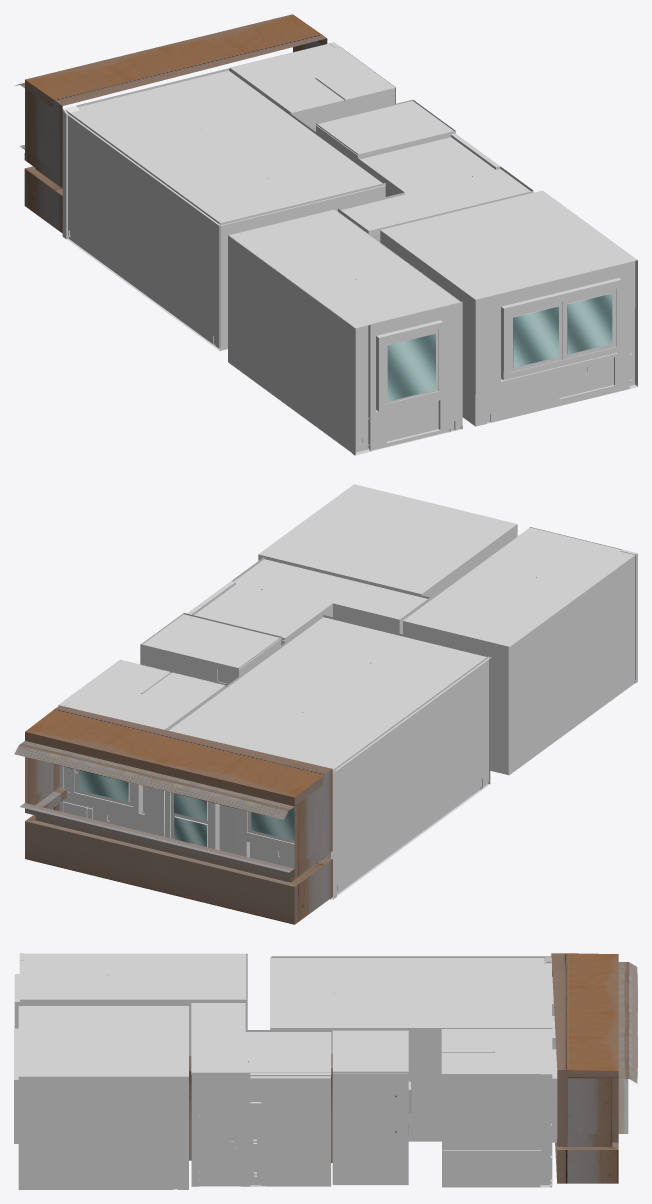
Rendered from 210501_detailmodel.fbx.
3 views of the same model, one above another, from view 1: azimuth 30°, elevation 25°; view 2: azimuth 150°, elevation 25°; view 3: azimuth 270°, elevation 25° (orthographic). The views are drawn at different scales.
Visible parts, largest first — view 1: WoZi.Decke, Wozi-Wandseite, Schla_Fensterseite, KiZi_WandgegenüTür, Schla_Decke, Balkon, KiZi_Decke, KiZi_Wand_Fenster, Flur_Decke, KuDecke, Bad_Decke, Wozi-Wandkurz (+6 smaller); view 2: Balkon, WoZi.Decke, Wozi-Wandseite, KiZi_WandgegenüTür, Schla_Decke, KiZi_Decke, Flur_Decke, KuDecke, Wand-Fensterseite, Bad_Decke, KiZi_Wandrechts, KuFensterseite (+6 smaller); view 3: WoZi.Decke, Schla_WandLinks, Balkon, Flur_Türseite, KuWandseite, Schla_Decke, KiZi_Decke, Bad_rechts, Flur_Decke, KuDecke, WoZi-Türseite, Bad_Decke (+4 smaller).
Boxes of the visible parts, x1,y1,x2,y2 form: WoZi.Decke: [62, 70, 385, 225]; Wozi-Wandseite: [65, 110, 221, 350]; Schla_Fensterseite: [475, 258, 637, 426]; KiZi_WandgegenüTür: [228, 235, 355, 455]; Schla_Decke: [380, 190, 637, 299]; Balkon: [15, 14, 327, 233]; KiZi_Decke: [228, 209, 461, 328]; KiZi_Wand_Fenster: [352, 301, 462, 455]; Flur_Decke: [341, 137, 530, 230]; KuDecke: [230, 44, 395, 112]; Bad_Decke: [315, 101, 453, 155]; Wozi-Wandkurz: [219, 183, 385, 350]; Balkon: [14, 705, 332, 924]; WoZi.Decke: [168, 617, 491, 773]; Wozi-Wandseite: [330, 656, 488, 899]; KiZi_WandgegenüTür: [508, 555, 634, 775]; Schla_Decke: [258, 484, 516, 593]; KiZi_Decke: [403, 527, 634, 646]; Flur_Decke: [194, 559, 427, 640]; KuDecke: [64, 659, 224, 729]; Wand-Fensterseite: [164, 770, 336, 899]; Bad_Decke: [143, 614, 281, 669]; KiZi_Wandrechts: [403, 621, 508, 774]; KuFensterseite: [63, 706, 163, 836]; WoZi.Decke: [270, 957, 551, 1029]; Schla_WandLinks: [18, 1076, 188, 1189]; Balkon: [551, 953, 637, 1183]; Flur_Türseite: [191, 1070, 330, 1186]; KuWandseite: [442, 1072, 552, 1187]; Schla_Decke: [18, 1006, 188, 1076]; KiZi_Decke: [19, 953, 246, 999]; Bad_rechts: [332, 1071, 408, 1184]; Flur_Decke: [191, 1003, 331, 1074]; KuDecke: [441, 1029, 552, 1074]; WoZi-Türseite: [270, 1028, 552, 1141]; Bad_Decke: [332, 1030, 408, 1073].
Size of the model in its own units: 969 by 517 by 2077.
